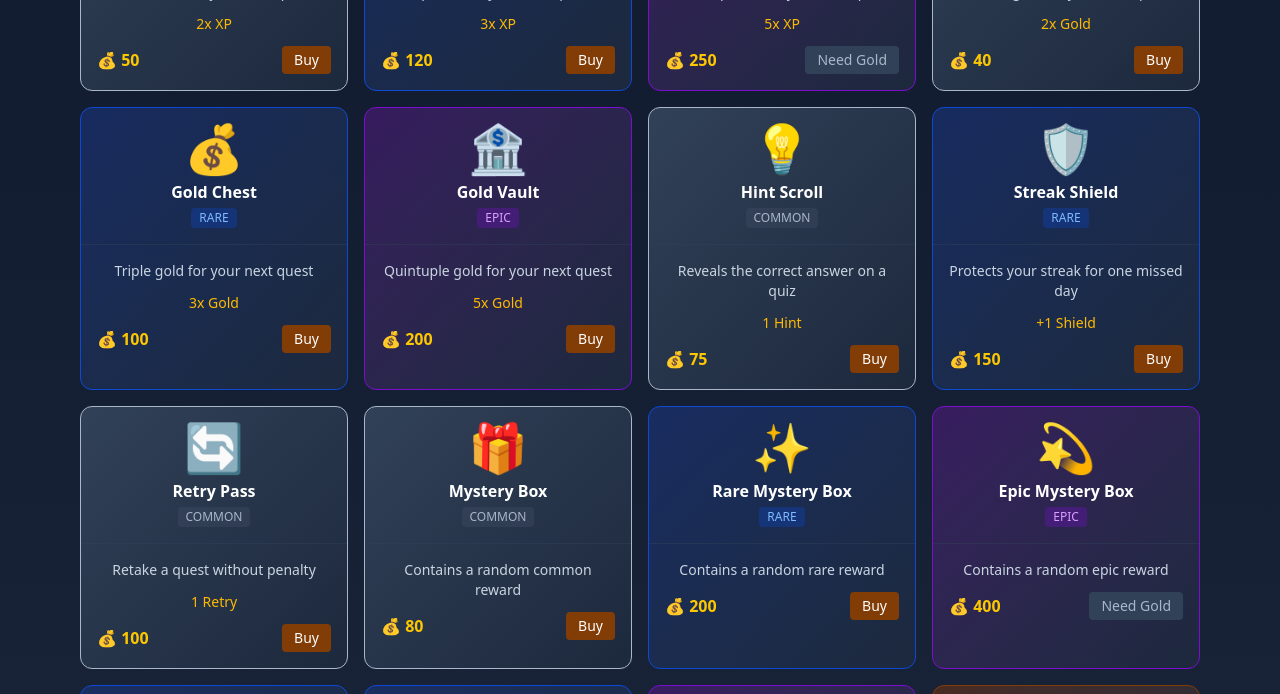
Test case: StorePage › adds a purchased power-up to the inventory
This screenshot has width=1280, height=694.
(page scrolled)
Click the button "Buy" below "+1 Shield".
click(1159, 359)  # box x1=1134 y1=345 x2=1183 y2=373
(page scrolled)
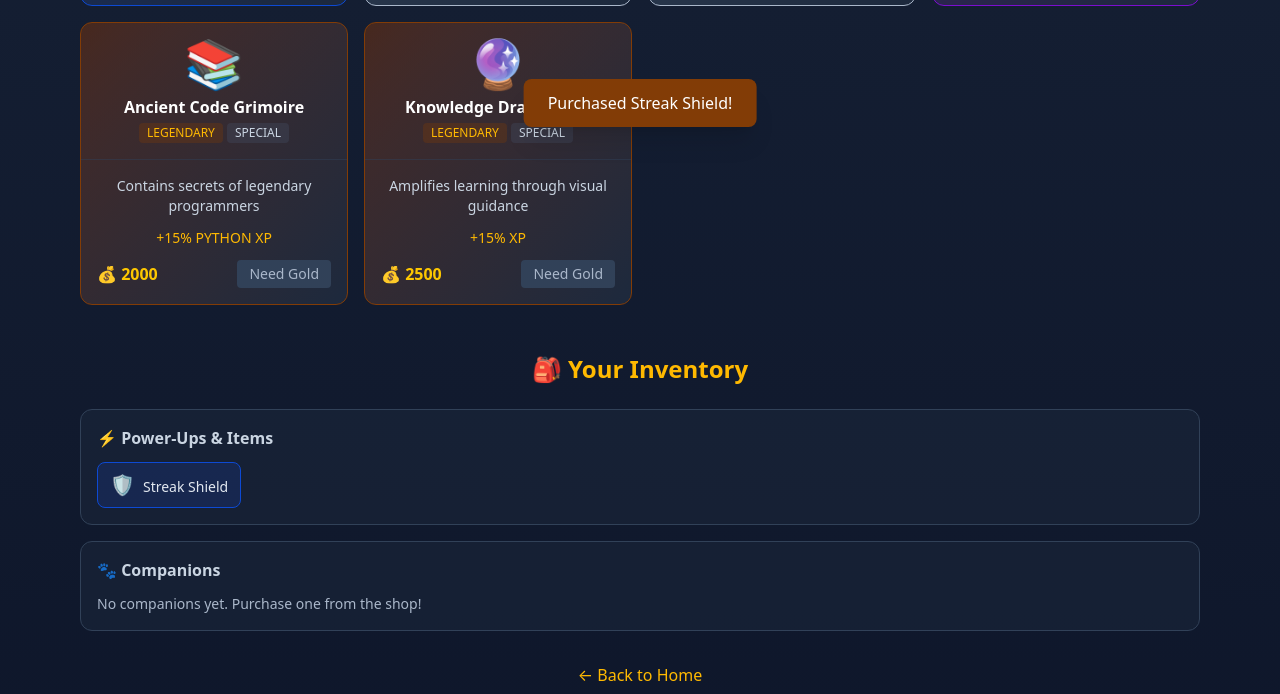
Expected: the text "Purchased Streak Shield!" is shown, x1=524 y1=79 x2=756 y2=127
Expected: the text "🛡️" is shown, x1=110 y1=471 x2=135 y2=498
